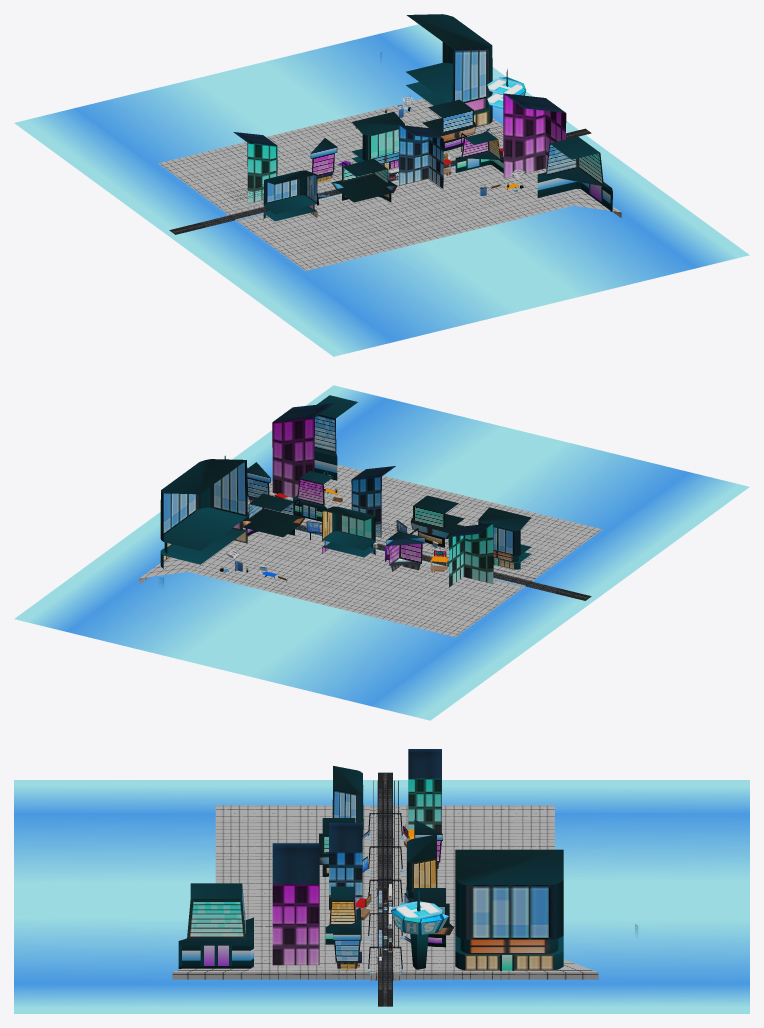
Rendered from subwaysurferstest84.glb.
3 renders of one model, top to bottom at view 1: azimuth 30°, elevation 25°; view 2: azimuth 150°, elevation 25°; view 3: azimuth 270°, elevation 25°, orthographic. The views are drawn at different scales.
Visible parts, largest first — view 1: Water, building, building.007, building.008, building.003, building.010, building.011, tile.059, tile.041, building.009, tile.012, tile.018 (+18 smaller); view 2: Water, building, building.007, building.006, building.011, tile.059, building.010, tile.041, building.004, tile.055, tile.058, building.008 (+19 smaller); view 3: Water, building, building.007, building.008, tile.061, tile.043, building.006, building.003, chstower, tile.041, tile.059, tile.058 (+16 smaller).
Part boxes in pixels (box(x1,y1,x2,y2)): Water: box(14, 24, 749, 356); building: box(406, 14, 492, 127); building.007: box(503, 93, 566, 178); building.008: box(537, 136, 612, 211); building.003: box(398, 125, 443, 188); building.010: box(263, 170, 317, 221); building.011: box(352, 111, 404, 169); tile.059: box(158, 156, 254, 212); tile.041: box(238, 216, 334, 270); building.009: box(331, 159, 397, 202); tile.012: box(395, 181, 483, 234); tile.018: box(328, 197, 423, 249); Water: box(14, 385, 749, 720); building: box(160, 459, 247, 568); building.007: box(272, 402, 334, 497); building.006: box(448, 523, 493, 587); building.011: box(322, 506, 375, 557); tile.059: box(426, 581, 522, 636); building.010: box(478, 507, 531, 569); tile.041: box(506, 522, 602, 578); building.004: box(243, 494, 305, 537); tile.055: box(307, 552, 390, 607); tile.058: box(396, 577, 488, 629); building.008: box(314, 395, 357, 480); Water: box(14, 780, 749, 1013); building: box(455, 849, 563, 970); building.007: box(272, 843, 319, 965); building.008: box(178, 883, 253, 968); tile.061: box(172, 955, 369, 979); tile.043: box(400, 955, 598, 979); building.006: box(408, 749, 441, 833); building.003: box(329, 823, 362, 910); chstower: box(391, 890, 448, 969); tile.041: box(215, 805, 369, 821); tile.059: box(400, 805, 554, 821); tile.058: box(400, 822, 554, 838).
Size of the model in its own units: 562 by 119 by 744.
4 materials, 4 textured.
